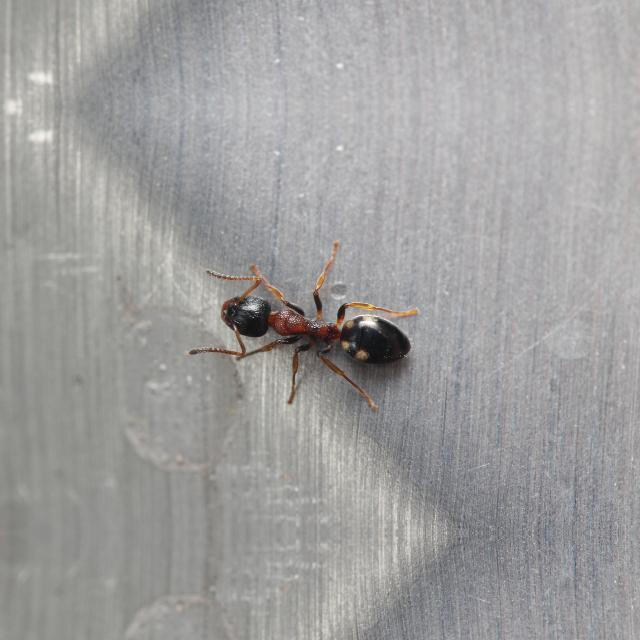Dolichoderus: (202, 255, 436, 383)
